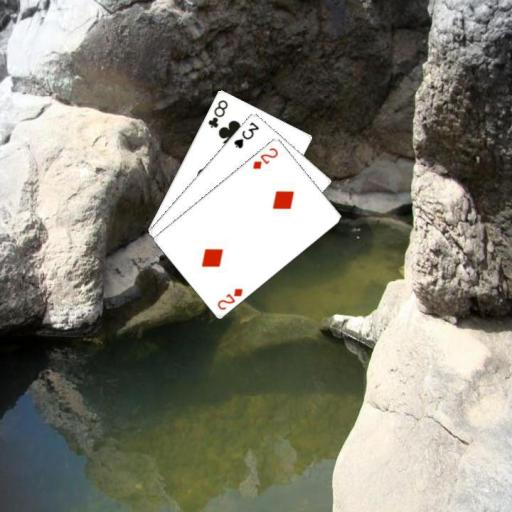2D: (250, 144, 280, 171), (214, 284, 244, 311)
3S: (231, 119, 261, 150)
8C: (205, 96, 229, 129)
